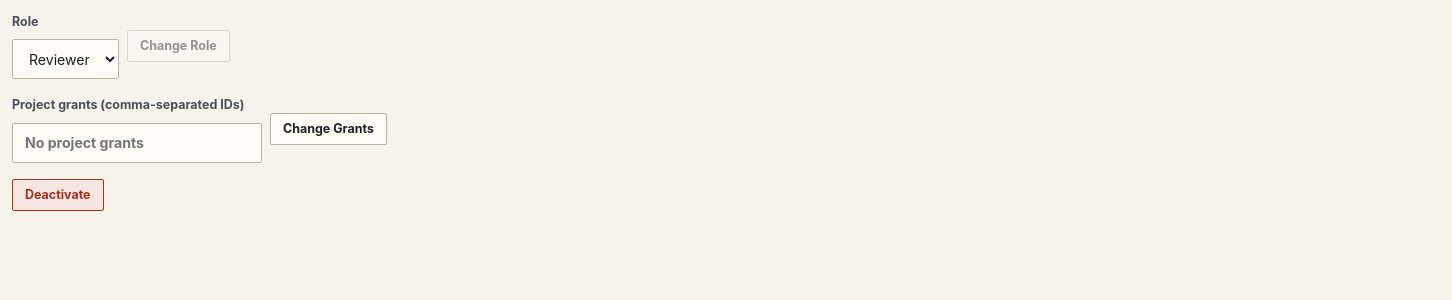
TeamMemberControls role change › surfaces the rejection message and keeps the selected role
Select "Editor" in the dropdown labelled "Role" at (66, 59), box [12,39,119,79]
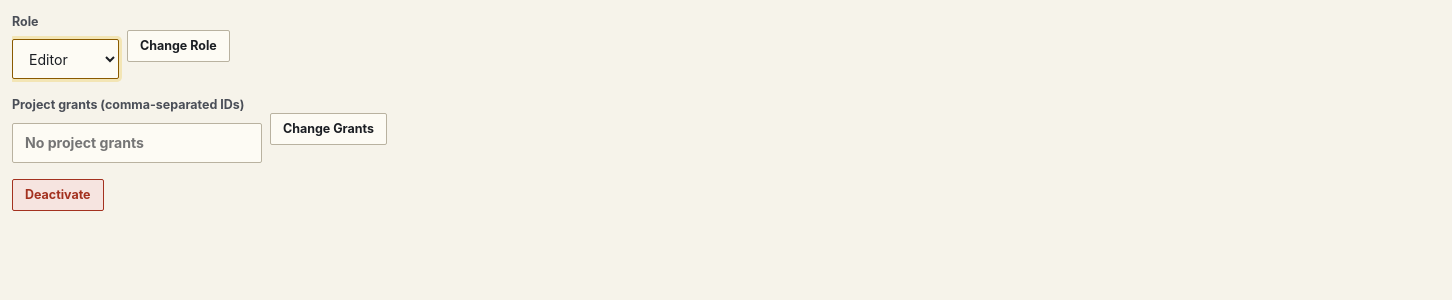
Click the button "Change Role" at (178, 46), box [127,30,230,62]
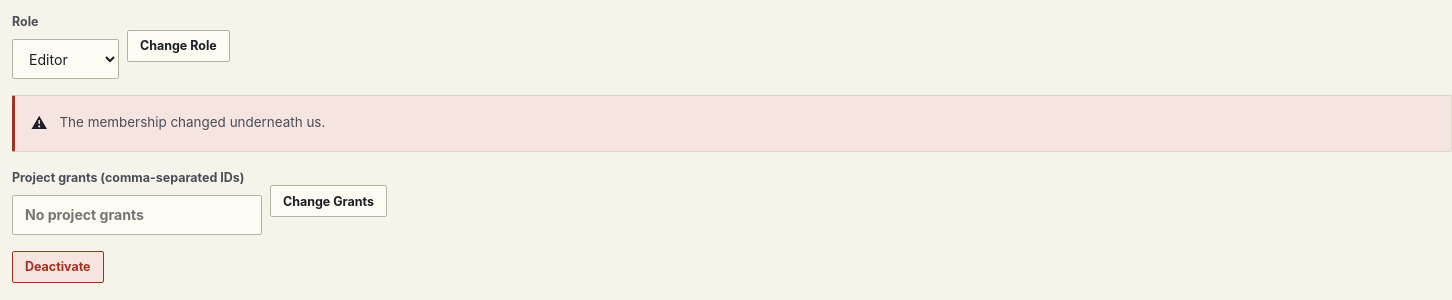
expect the message shows "changed underneath": met, box [59,114,325,130]
